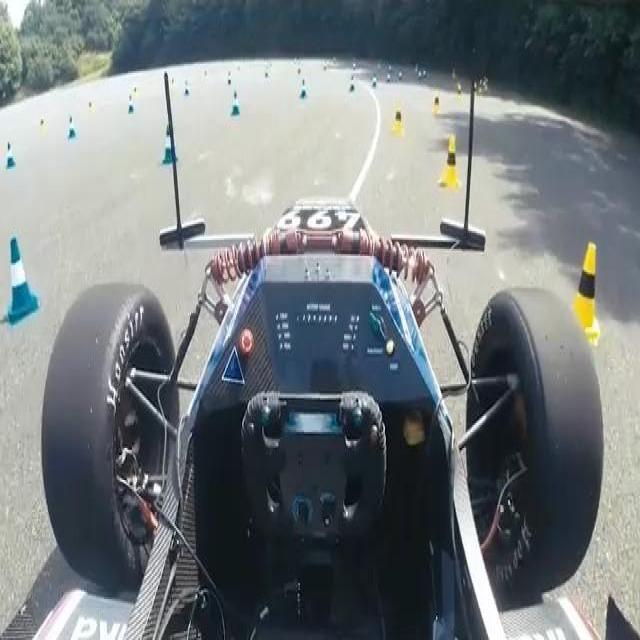blue_cone: (5, 238, 41, 332), (161, 125, 178, 167), (5, 140, 16, 170), (231, 90, 241, 118), (68, 115, 77, 141)
yellow_cone: (564, 242, 603, 346), (439, 134, 462, 190), (389, 101, 405, 137)
